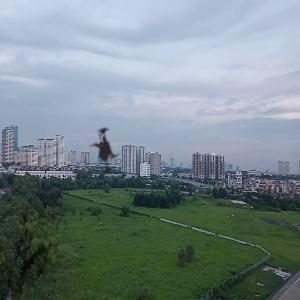drone: (63, 103, 157, 197)
